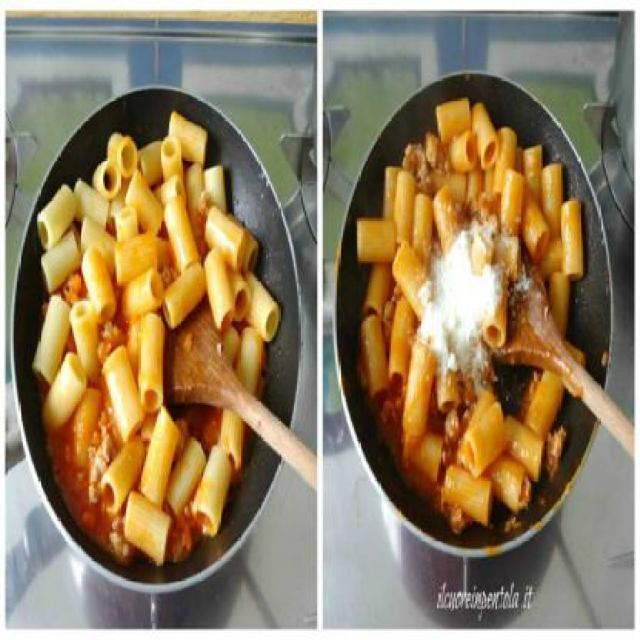Pasta al ragu: (14, 66, 306, 570), (336, 63, 613, 526)
